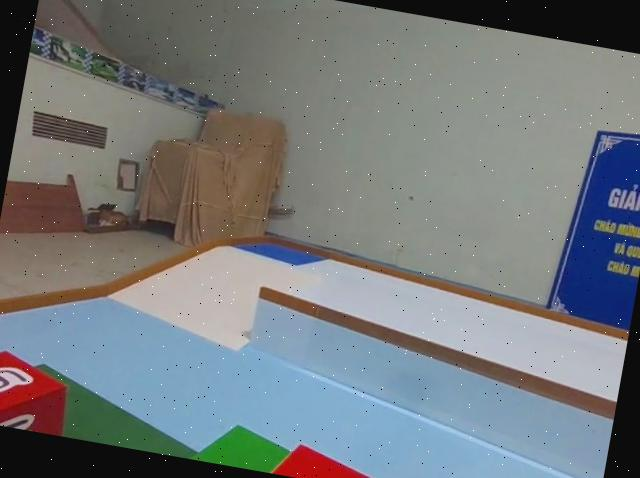R2 Fake: (232, 427, 460, 478), (0, 341, 77, 437)
